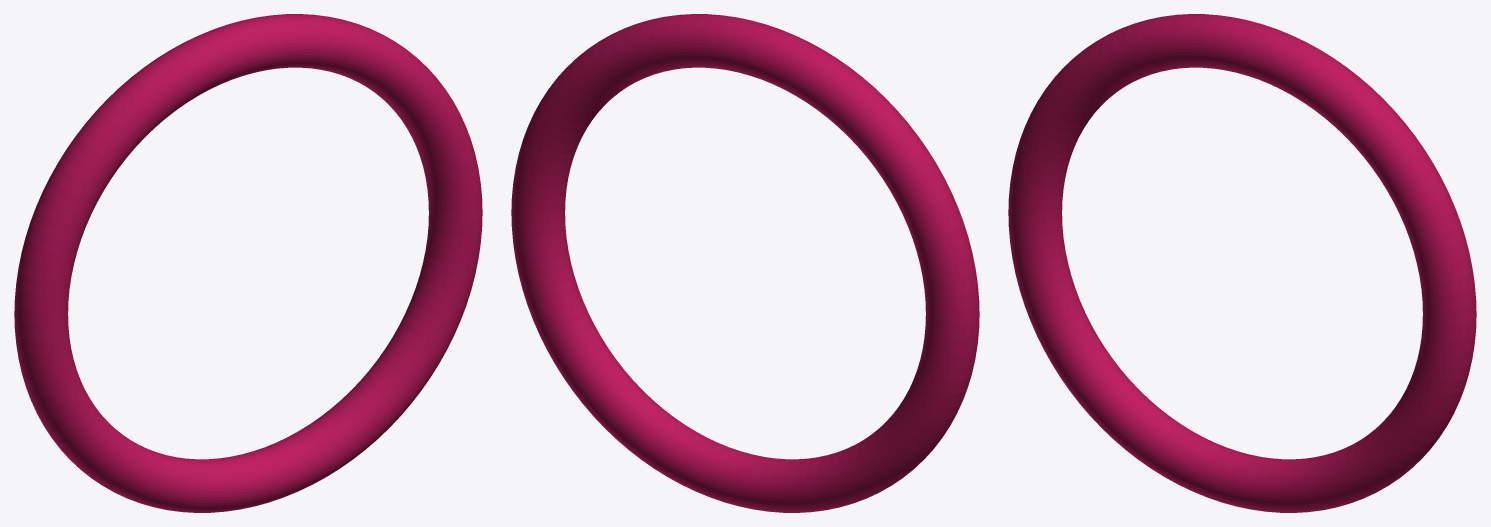
3 renders of one model, left to right at view 1: azimuth 30°, elevation 25°; view 2: azimuth 150°, elevation 25°; view 3: azimuth 330°, elevation 25°, orthographic.
Parts seen in each view (by area): view 1: world; view 2: world; view 3: world.
Boxes of the visible parts, x1,y1,x2,y2 form: world: (14, 14, 482, 512); world: (511, 14, 979, 512); world: (1008, 14, 1476, 512).
Bounding box in the file's own units: 30.4 × 30.4 × 3.06.
